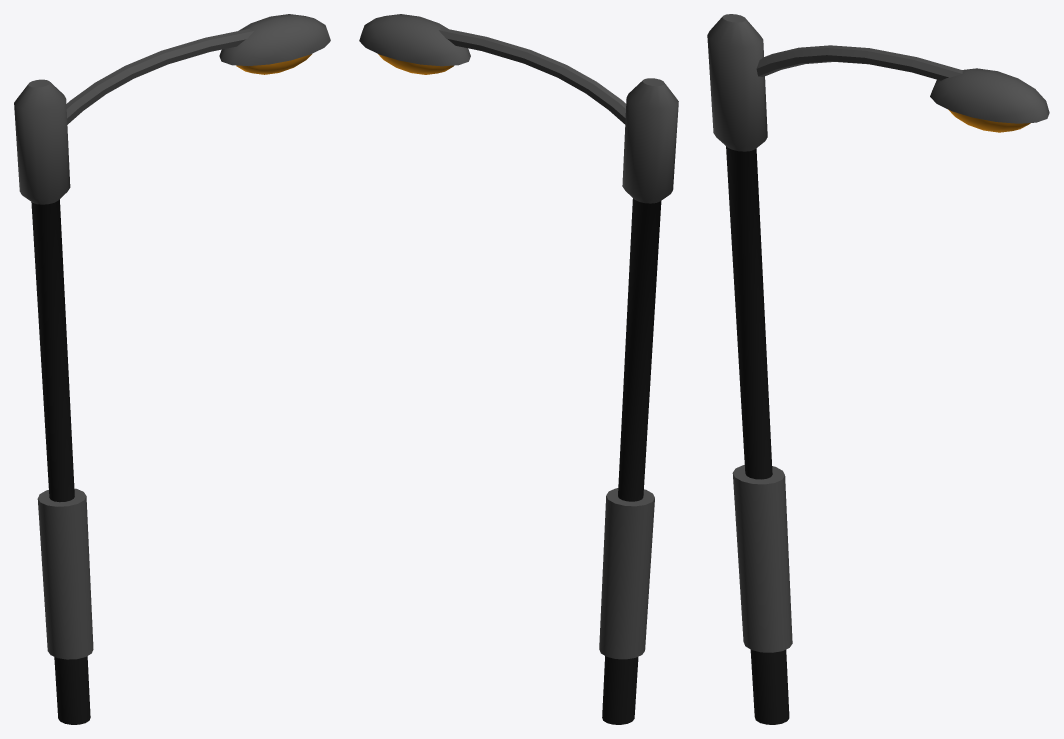
File: Light1.fbx
3 renders of one model, left to right at view 1: azimuth 30°, elevation 25°; view 2: azimuth 150°, elevation 25°; view 3: azimuth 330°, elevation 25°, orthographic. The views are drawn at different scales.
Visible parts, largest first — view 1: Light1; view 2: Light1; view 3: Light1.
Boxes of the visible parts, box(x1,y1,x2,y2) form: Light1: box(14, 14, 330, 724); Light1: box(359, 14, 678, 724); Light1: box(707, 14, 1049, 724).
Bounding box in the file's own units: 328 × 648 × 58.66.
